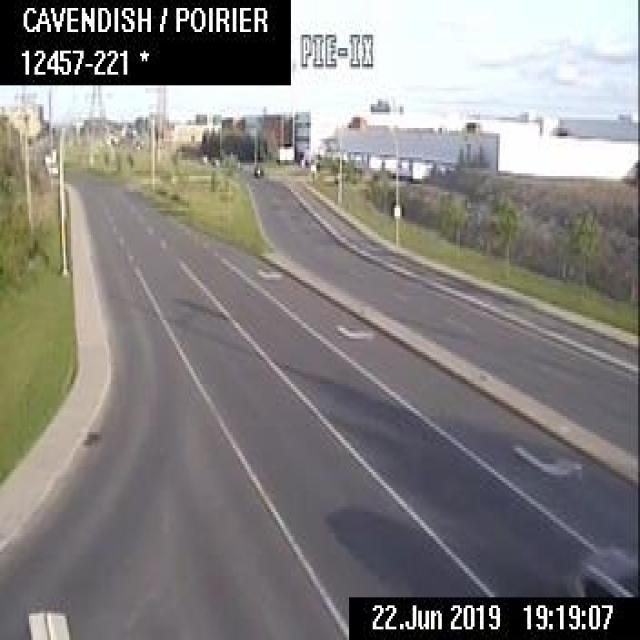vehicle: (252, 162, 262, 176)
